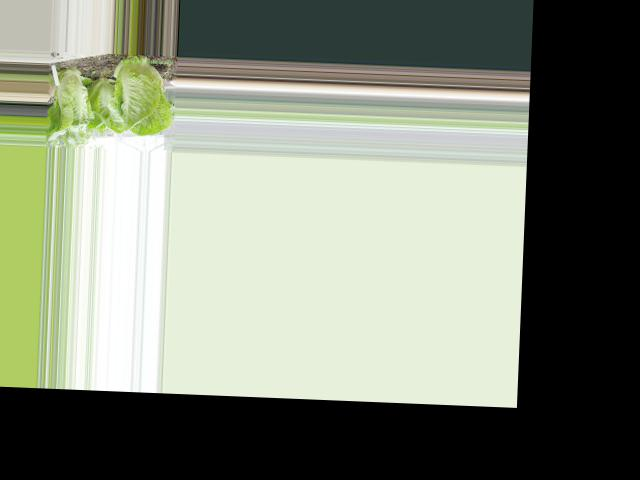lettuce: (51, 58, 97, 141)
